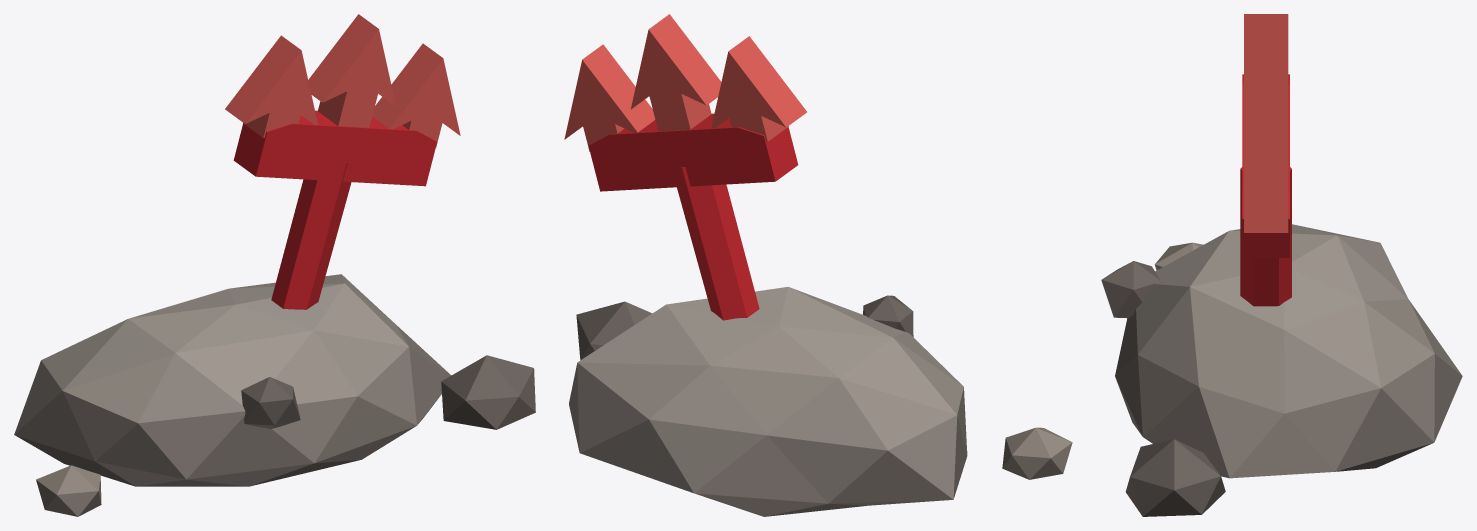
The model's file is habitat_prop_imp.fbx.
3 renders of one model, left to right at view 1: azimuth 30°, elevation 25°; view 2: azimuth 150°, elevation 25°; view 3: azimuth 270°, elevation 25°, orthographic. The views are drawn at different scales.
Visible parts, largest first — view 1: habitat_prop_imp; view 2: habitat_prop_imp; view 3: habitat_prop_imp.
Part boxes in pixels (x1=…): habitat_prop_imp: x1=14, y1=14, x2=535, y2=516; habitat_prop_imp: x1=564, y1=14, x2=1072, y2=516; habitat_prop_imp: x1=1101, y1=14, x2=1462, y2=516.
Size of the model in its own units: 1.63 by 1.22 by 0.9817.
